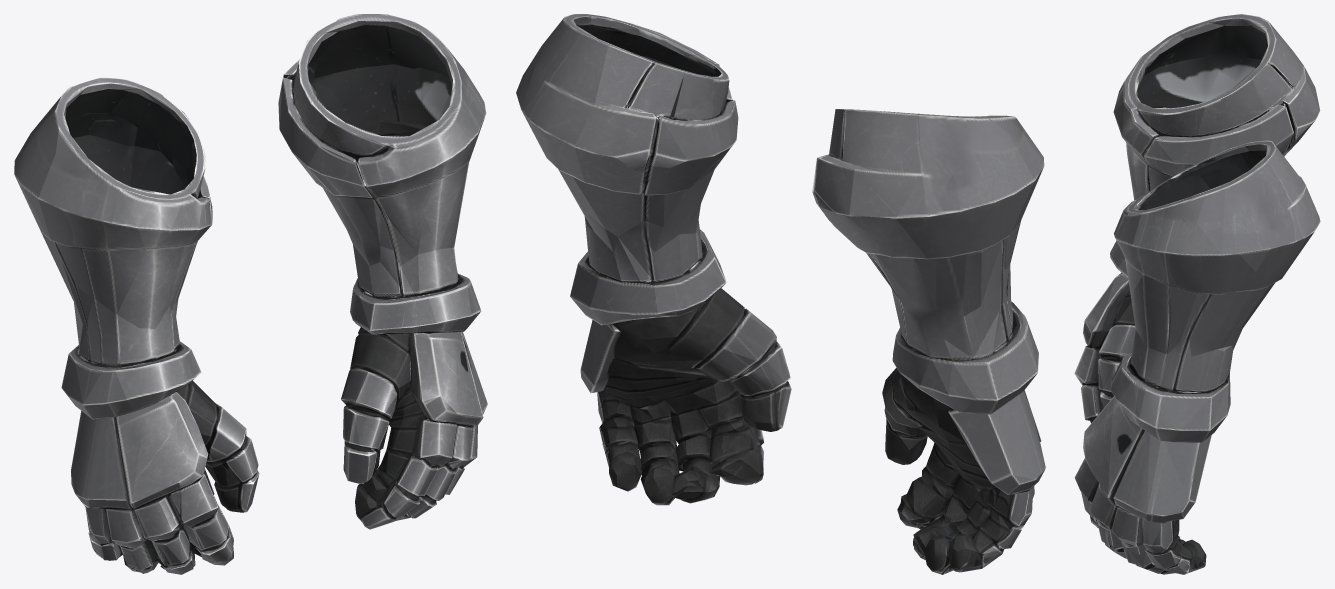
Rendered from Meshy_AI_steel_gauntlets_prop__1105014657_texture.glb.
The picture shows the model from 3 angles, left to right: view 1: azimuth 30°, elevation 25°; view 2: azimuth 150°, elevation 25°; view 3: azimuth 270°, elevation 25°; orthographic projection. The views are drawn at different scales.
Visible parts, largest first — view 1: output_unwrapped; view 2: output_unwrapped; view 3: output_unwrapped.
Boxes of the visible parts, <box> form: output_unwrapped: <box>14,14,487,574</box>; output_unwrapped: <box>516,14,1045,574</box>; output_unwrapped: <box>1074,14,1320,574</box>.
Bounding box in the file's own units: 1.9 × 1.87 × 0.9801.
1 material, 1 textured.
